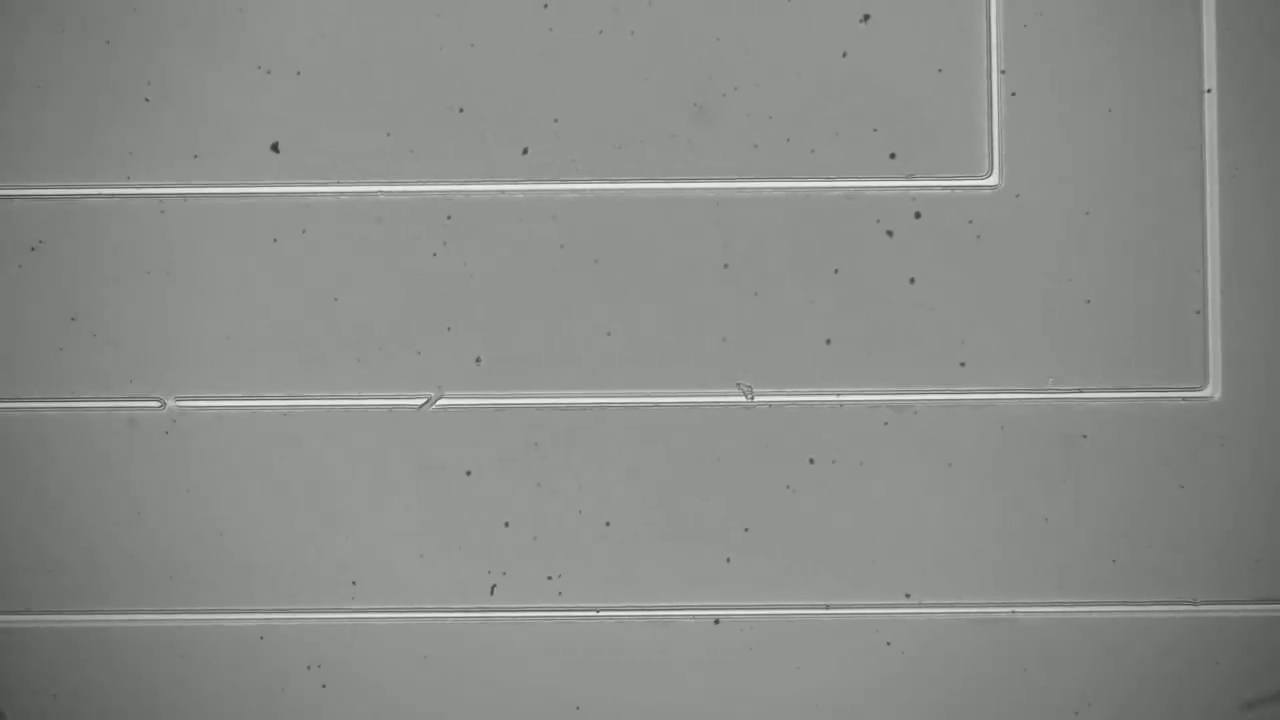open: (407, 384, 451, 420), (149, 386, 188, 426)
stains_enbedded: (726, 373, 767, 413)
